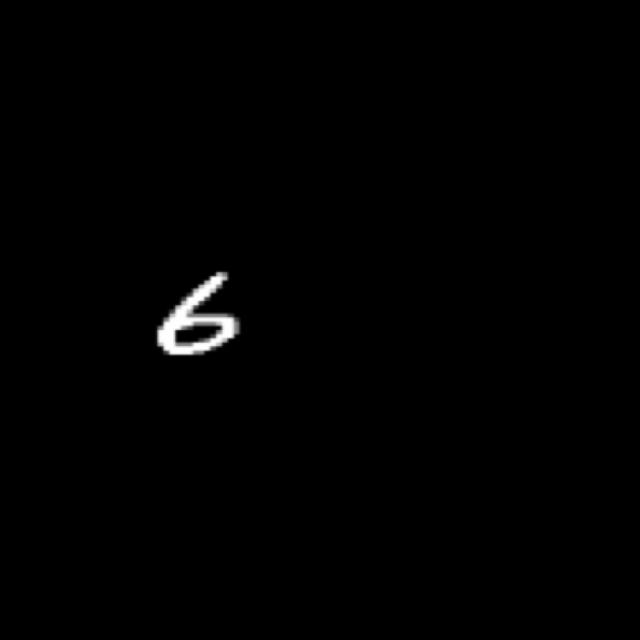six -6-: (150, 268, 252, 362)
